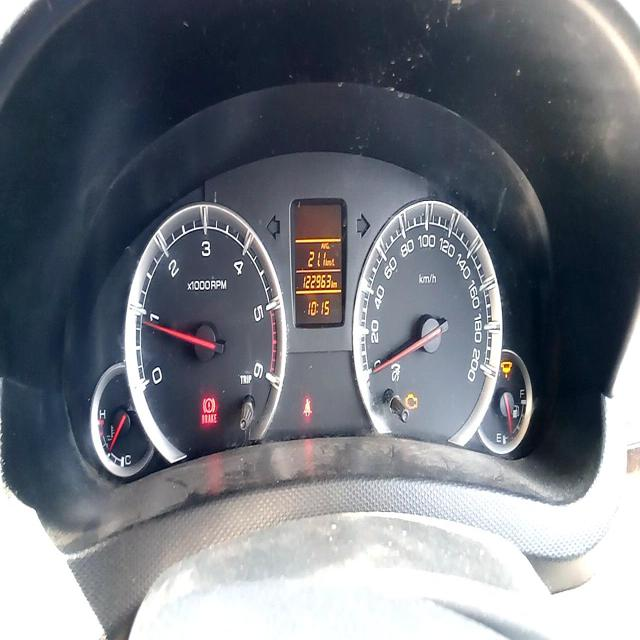odometer: (300, 271, 335, 290)
